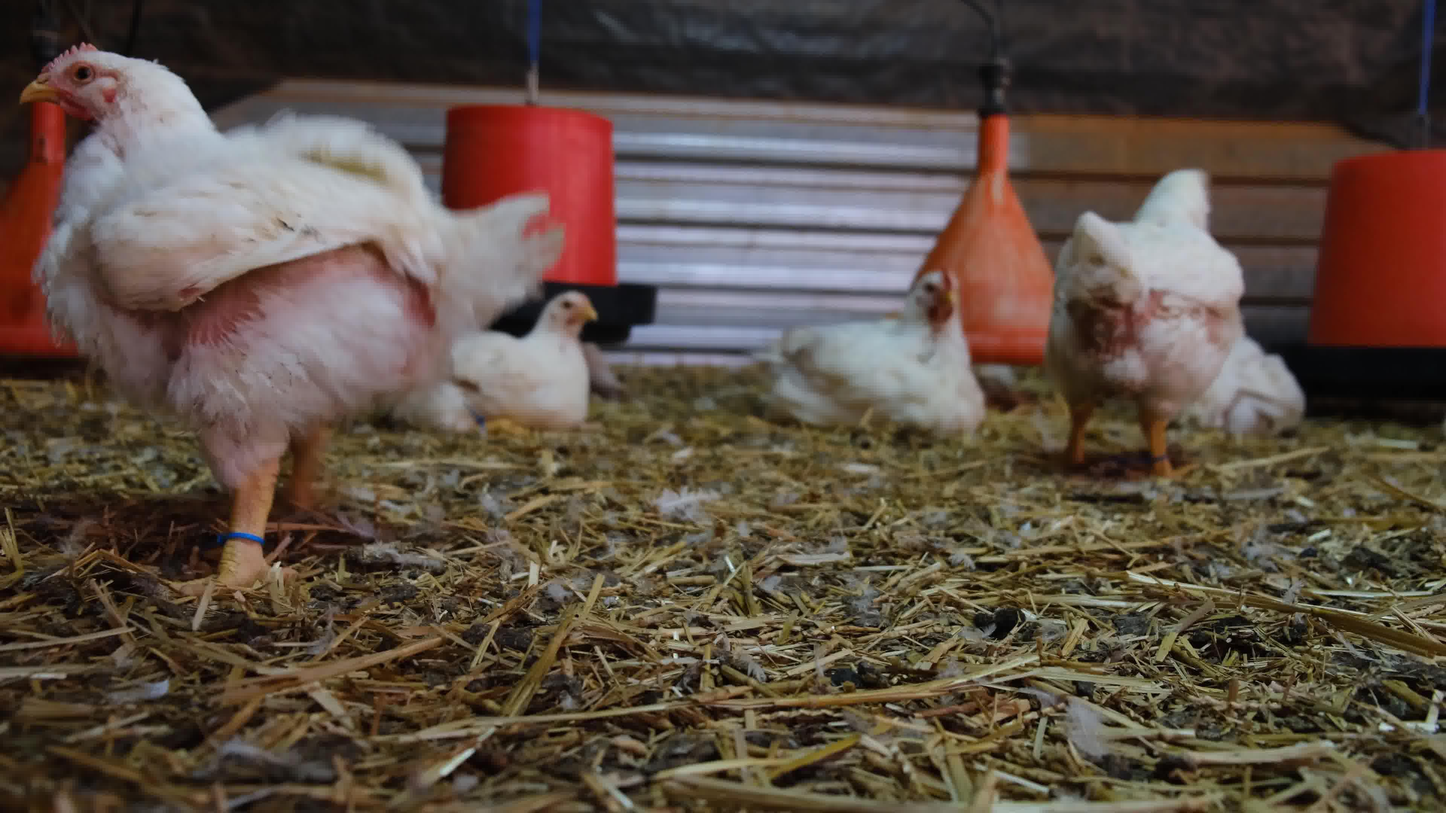AbNormal: (740, 262, 990, 450), (446, 288, 627, 452), (1226, 297, 1339, 444)
Normal: (17, 43, 565, 619), (1041, 151, 1263, 486)
